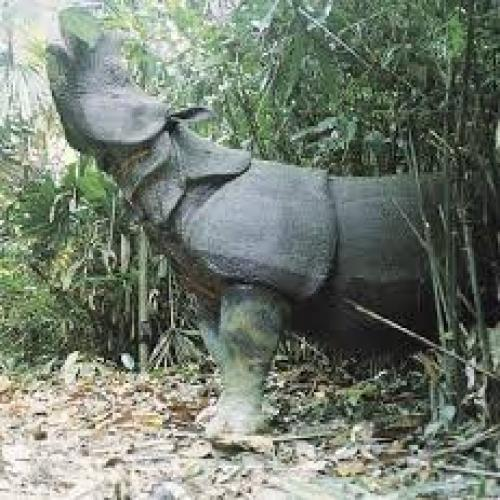rhino-endangered: (49, 13, 494, 434)
